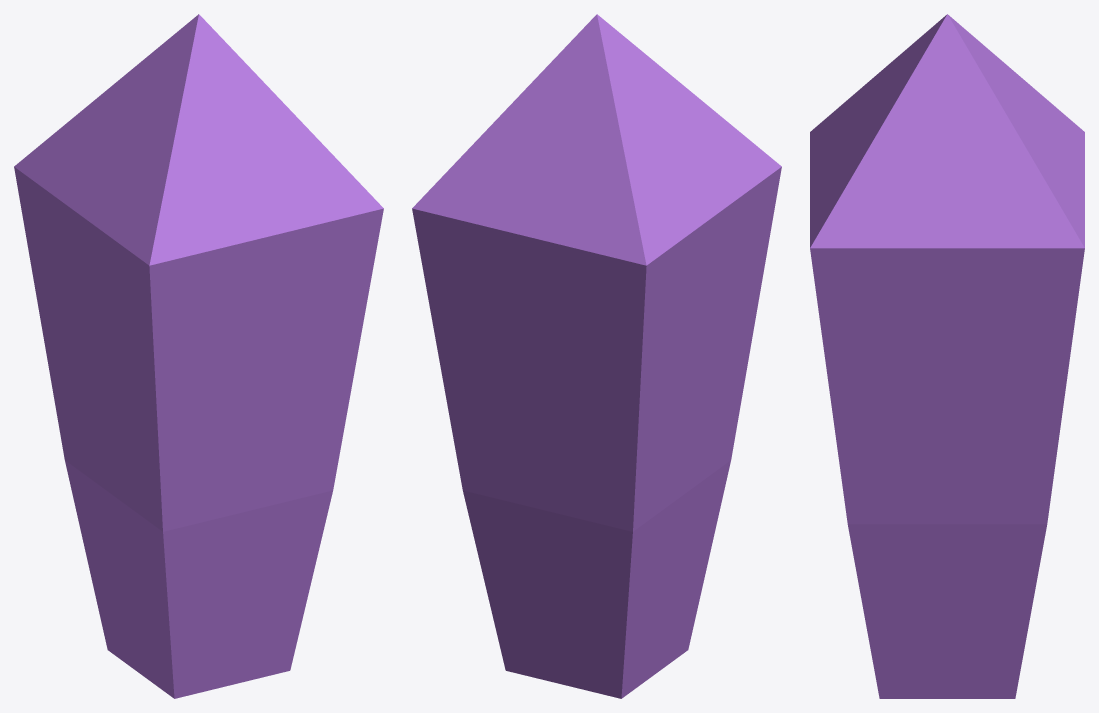
File: crystalsingle.fbx
3 views of the same model, side by side, from view 1: azimuth 30°, elevation 25°; view 2: azimuth 150°, elevation 25°; view 3: azimuth 270°, elevation 25° (orthographic).
Visible parts, largest first — view 1: Base; view 2: Base; view 3: Base.
Part boxes in pixels (x1,y1,x2,y2): Base: [14, 14, 383, 698]; Base: [412, 14, 781, 698]; Base: [810, 14, 1084, 698].
Bounding box in the file's own units: 141 × 372 × 141.
